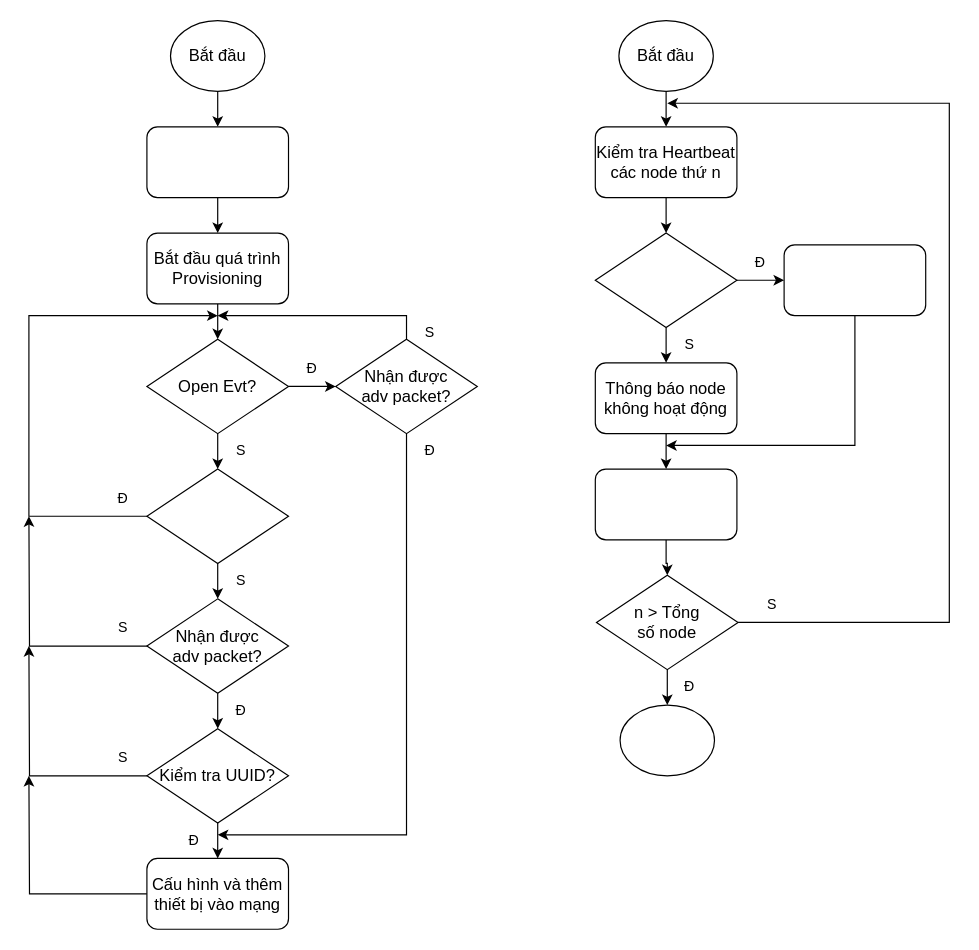
The diagram is 979 pixels wide and 950 high, and some of its shapes have lost their labels. Here are the shapes that lost their labels. From the top down, the centre of each, then its label:
point 217,162: Khởi tạo Provisioner
point 665,279: Nhận được Heartbeat?
point 854,280: Thông báo node hoạt động
point 217,515: Timeout 30s?
point 665,504: n++
point 666,740: Kết thúc
